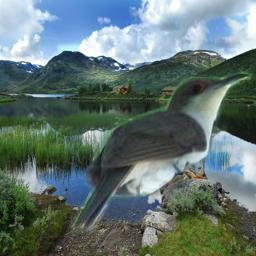Cuckoo: (71, 71, 253, 234)
